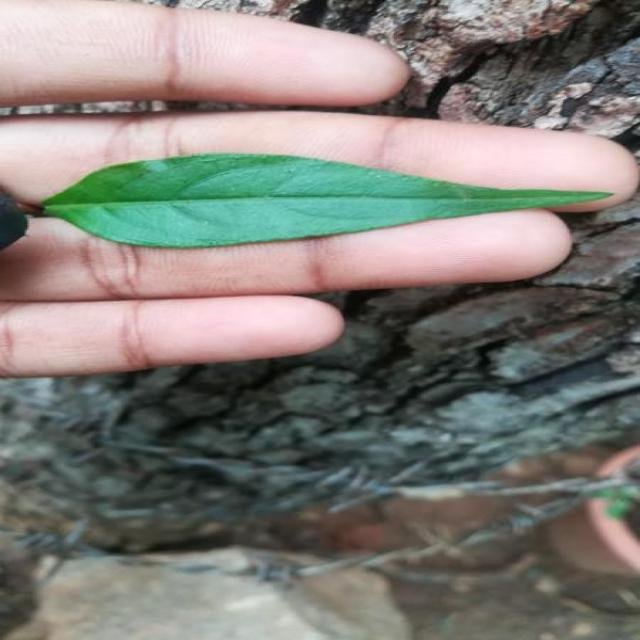Nelavembu: (42, 154, 612, 248)
